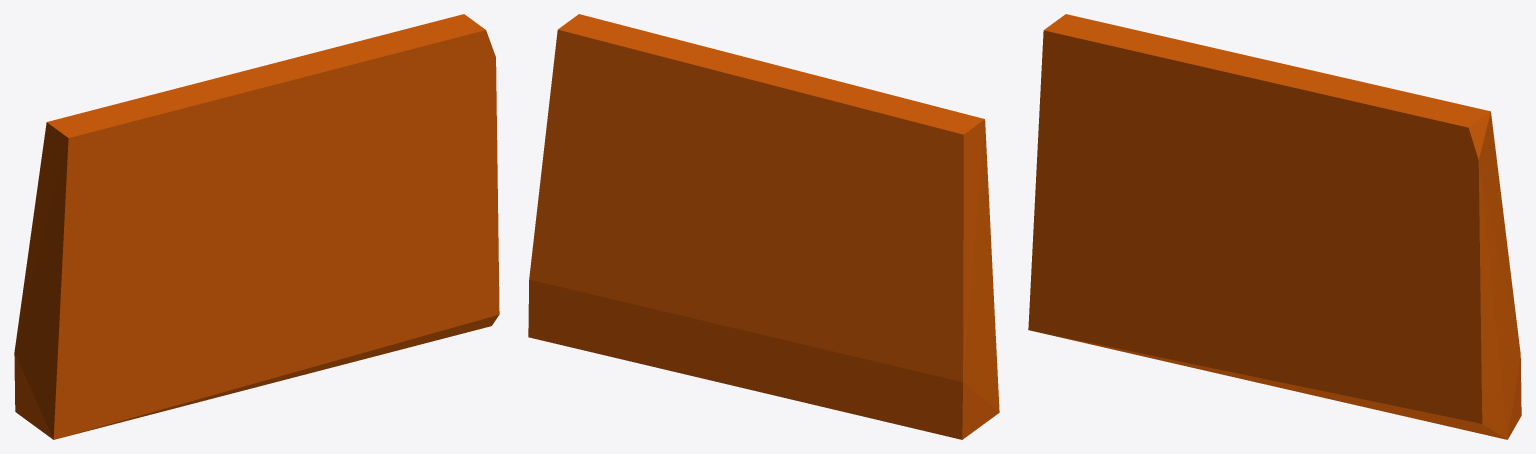
The model's file is garden_table_convex_piece_004.obj.
The picture shows the model from 3 angles, left to right: view 1: azimuth 30°, elevation 25°; view 2: azimuth 150°, elevation 25°; view 3: azimuth 330°, elevation 25°; orthographic projection. The views are drawn at different scales.
Size of the model in its own units: 0.268 by 0.1762 by 0.0391.
